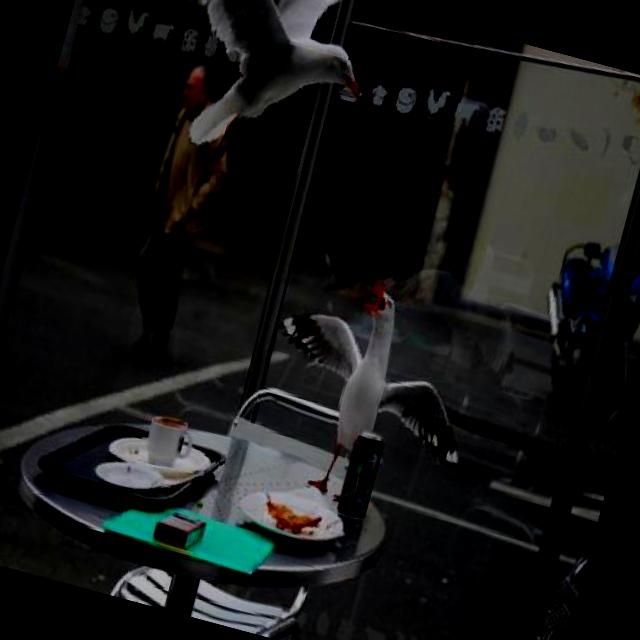Person: (107, 59, 256, 368)
